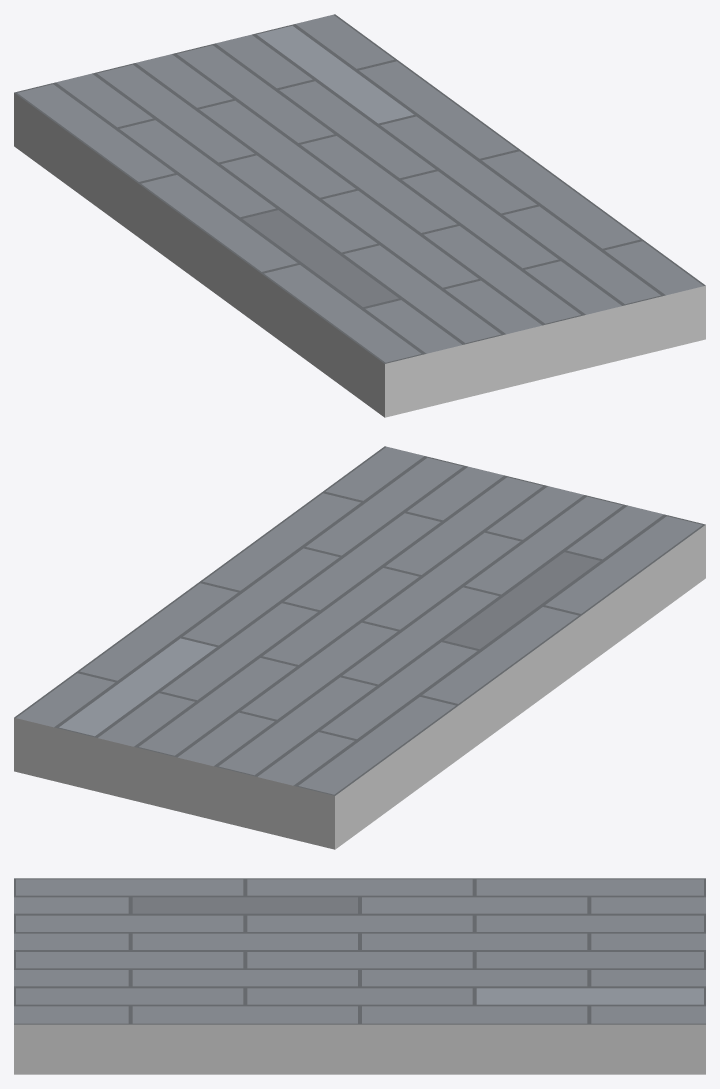
The model's file is Floor12_02.fbx.
The picture shows the model from 3 angles, top to bottom: view 1: azimuth 30°, elevation 25°; view 2: azimuth 150°, elevation 25°; view 3: azimuth 270°, elevation 25°; orthographic projection. The views are drawn at different scales.
Parts seen in each view (by area): view 1: Floor12_02; view 2: Floor12_02; view 3: Floor12_02.
Boxes of the visible parts, x1,y1,x2,y2 form: Floor12_02: (14, 14, 705, 417); Floor12_02: (14, 446, 705, 849); Floor12_02: (14, 878, 705, 1074).
Bounding box in the file's own units: 125 × 20 × 250.
